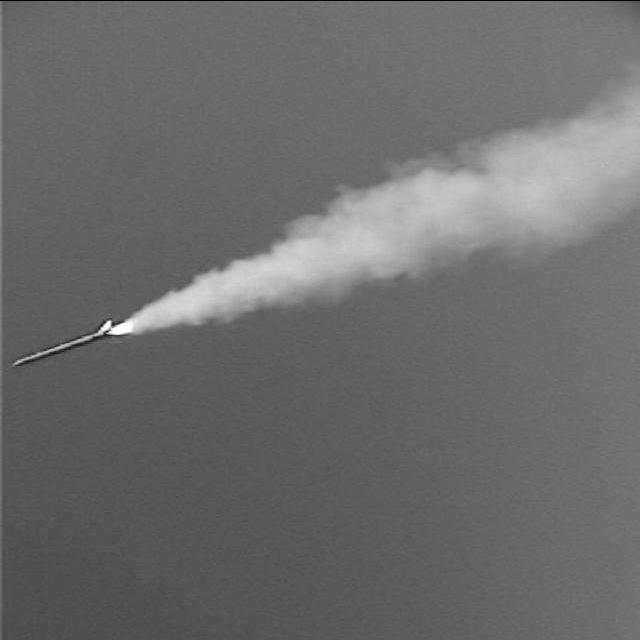missile: (8, 316, 121, 368)
